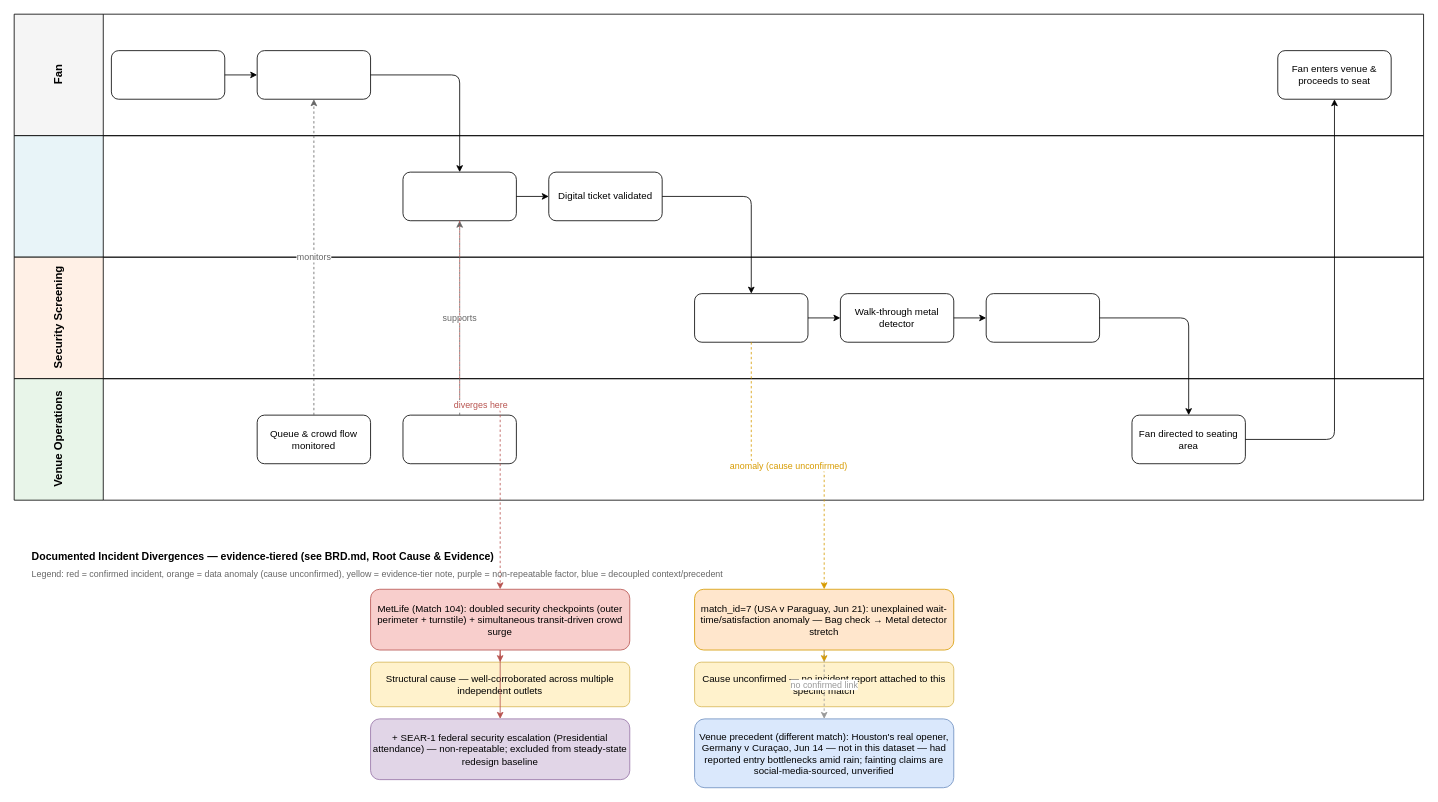
This 1438x802 diagram has some shape labels left out. The shapes that lost their labels are listed below. From the top down, each one's box as (x1, y1, x2, y2) in pixels, then its label:
(111, 50, 225, 99): Fan arrives at venue perimeter
(256, 50, 371, 99): Fan joins entry queue
(402, 171, 516, 221): Ticket scanned at turnstile
(13, 135, 1424, 257): Ticketing / Entry
(694, 293, 808, 342): Bag check
(985, 293, 1100, 342): Secondary screening (if flagged)
(402, 414, 516, 464): Gate staffing allocated
